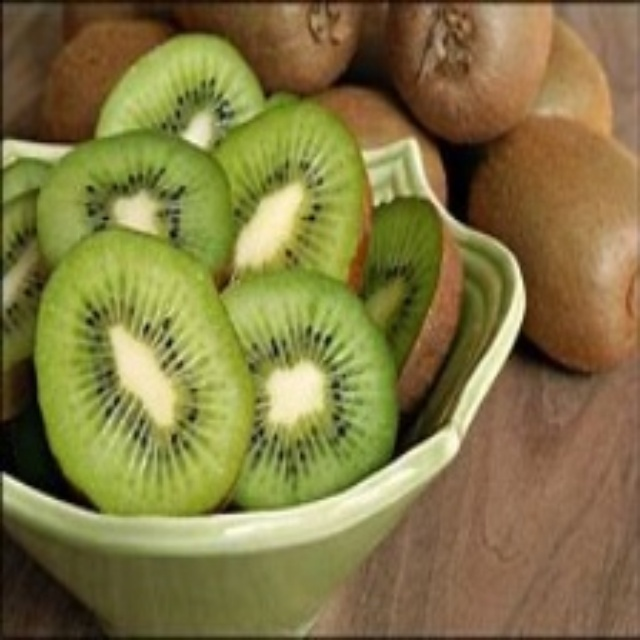kiwi: (41, 36, 453, 541), (470, 116, 639, 365), (393, 7, 555, 136), (176, 2, 375, 99)
